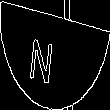N_N: (41, 26, 69, 84)
